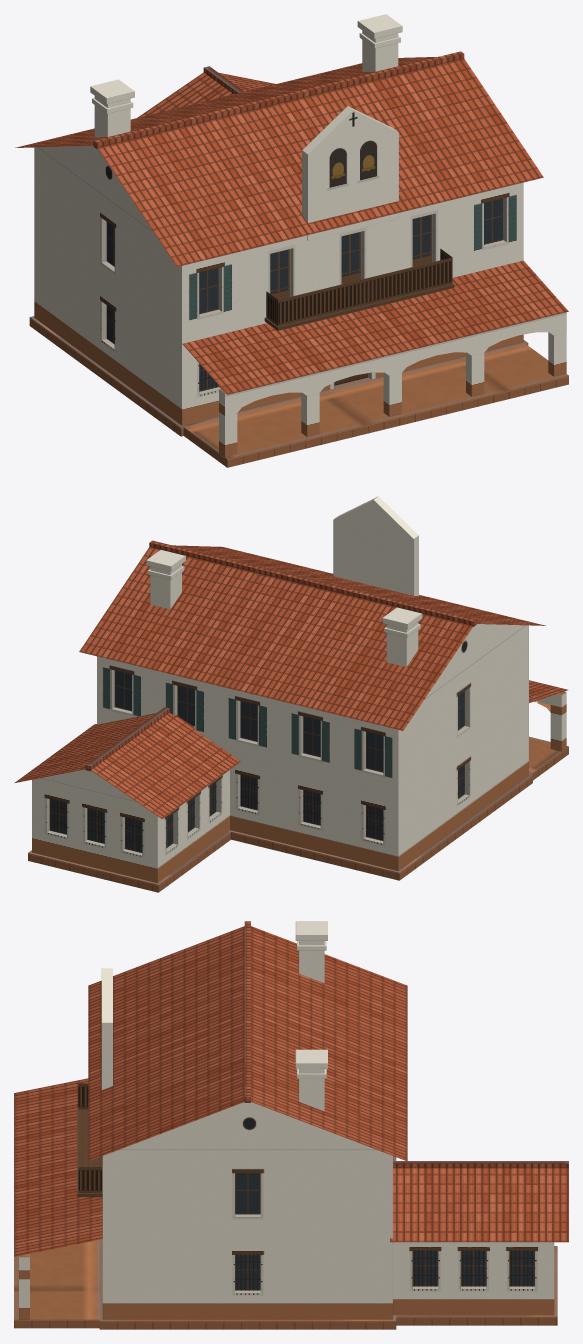
File: colonialtradinghouse.glb
3 renders of one model, top to bottom at view 1: azimuth 30°, elevation 25°; view 2: azimuth 150°, elevation 25°; view 3: azimuth 270°, elevation 25°, orthographic. The views are drawn at different scales.
Parts seen in each view (by area): view 1: ColonialTradingHouse; view 2: ColonialTradingHouse; view 3: ColonialTradingHouse.
Boxes of the visible parts, <box> form: ColonialTradingHouse: <box>15,14,568,467</box>; ColonialTradingHouse: <box>15,496,568,892</box>; ColonialTradingHouse: <box>14,921,568,1329</box>.
Bounding box in the file's own units: 12.9 × 9.51 × 17.2.
1 material, 1 textured.
